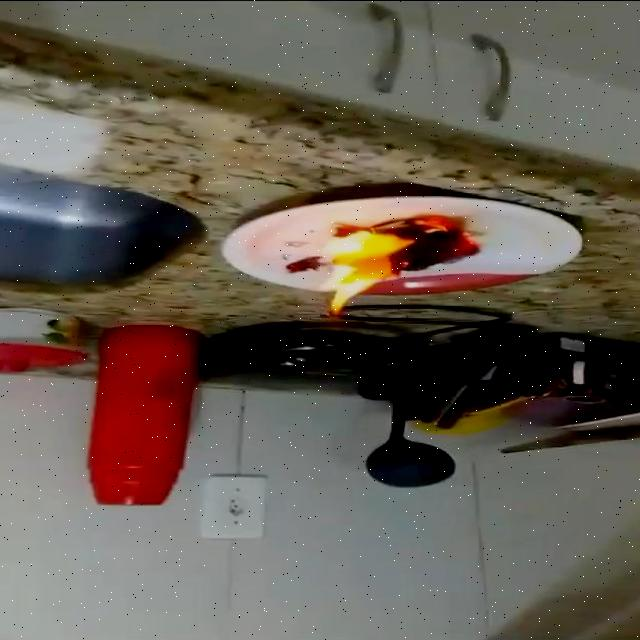fire: (323, 215, 489, 321)
